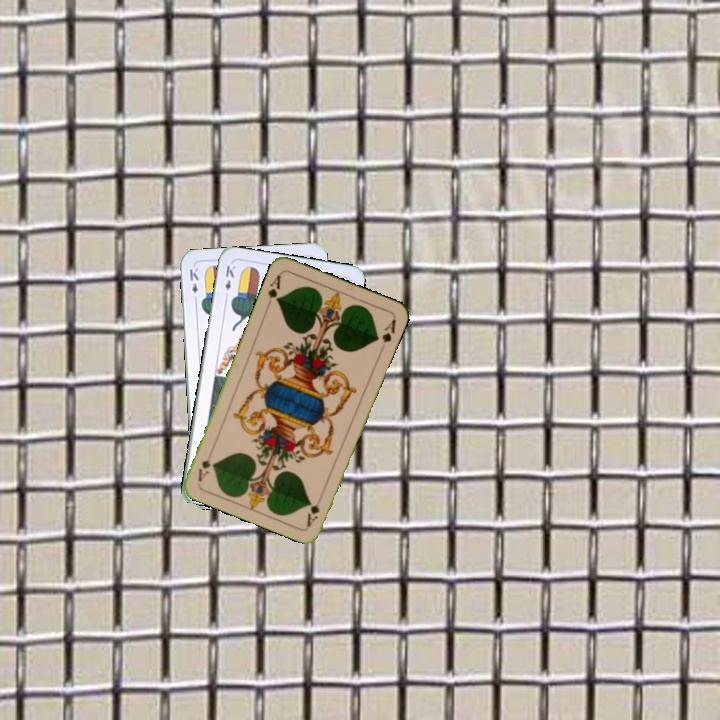EK: (185, 264, 202, 305), (221, 261, 238, 301)
GA: (263, 270, 284, 309), (303, 500, 322, 529)
